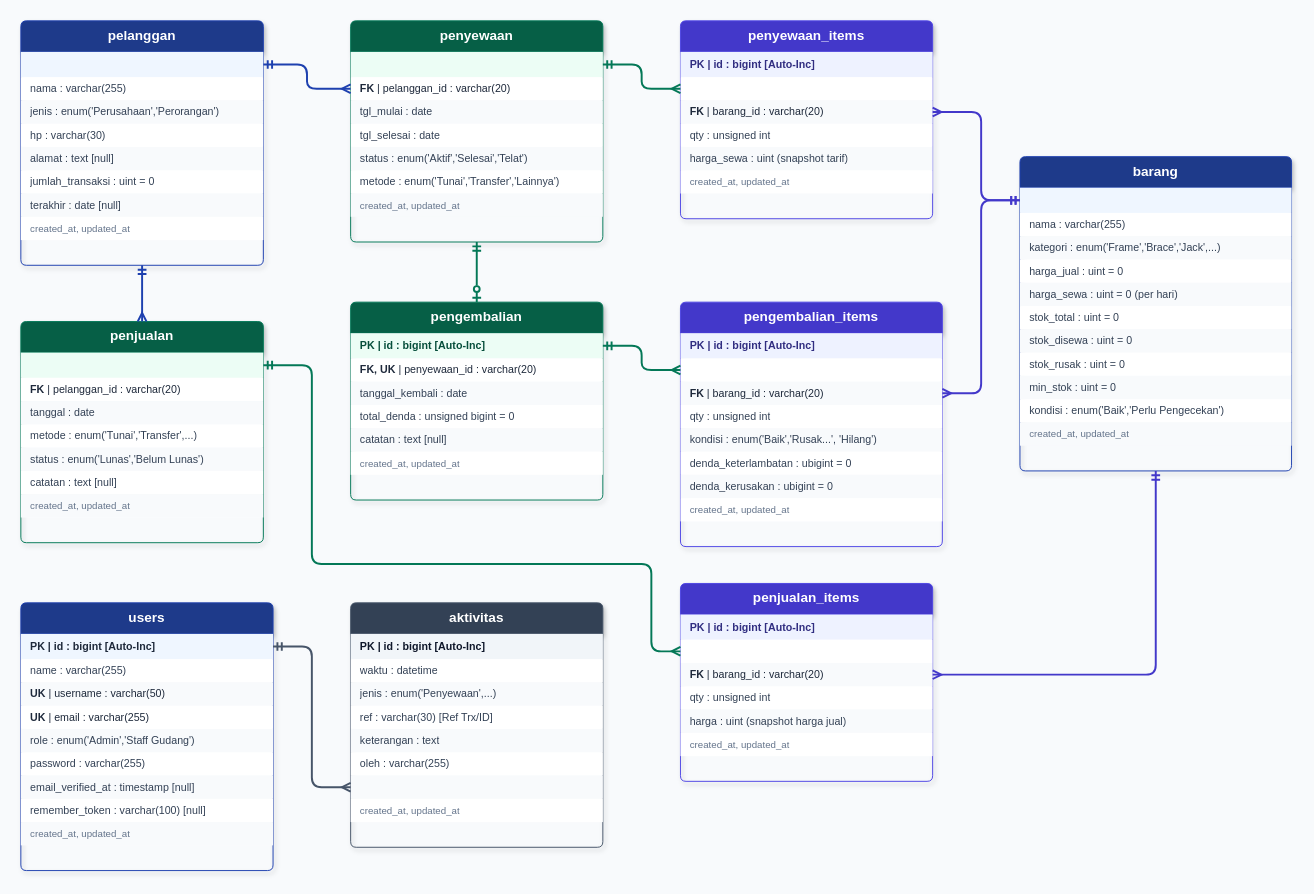
The diagram is 1314 pixels wide and 894 high, and some of its shapes have lost their labels. The centre of each missing label's shape, as x and y in pixels:
"FK | pengembalian_id : ubigint" belongs at pixel 811 369.
"FK | penjualan_id : varchar(20)" belongs at pixel 806 651.
"FK | penyewaan_id : varchar(20)" belongs at pixel 806 88.
"FK | user_id : bigint [null, SET NULL]" belongs at pixel 476 786.
"PK | id : varchar(20) [BRG-XXX]" belongs at pixel 1155 199.
"PK | id : varchar(20) [PJL-XXXX]" belongs at pixel 141 364.
"PK | id : varchar(20) [PLG-XXXX]" belongs at pixel 141 64.
"PK | id : varchar(20) [SWA-XXXX]" belongs at pixel 476 64.
